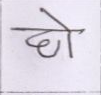o_matra: (61, 18, 75, 58)
